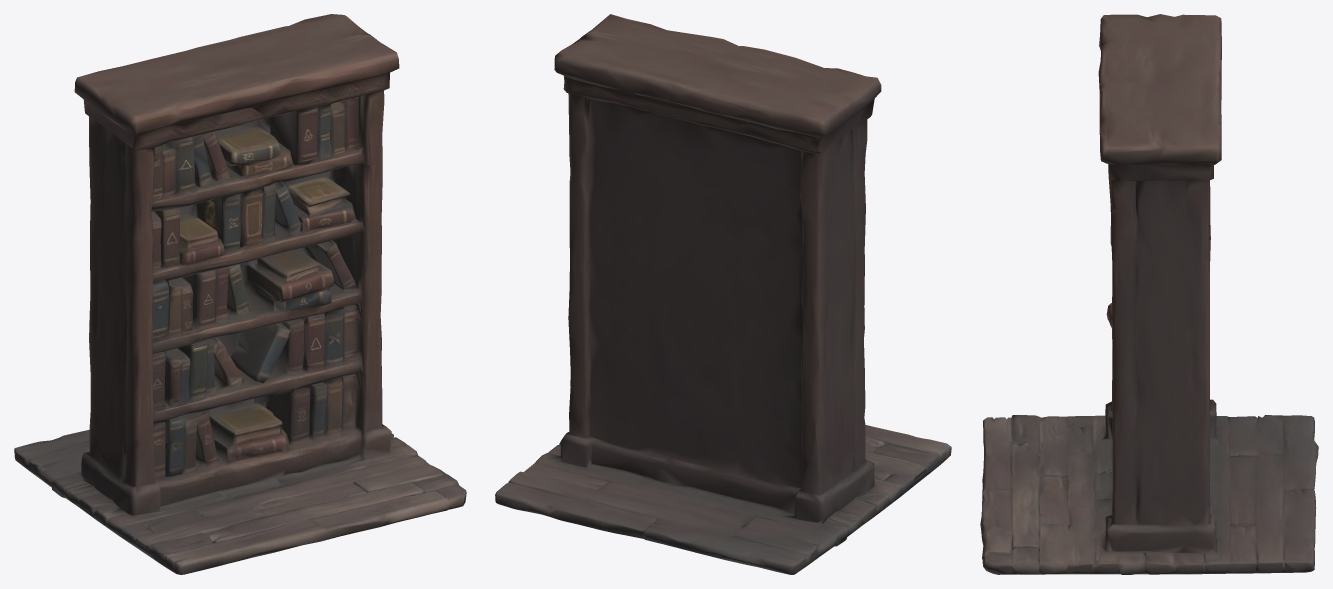
The model's file is library_bookshelf.glb.
3 views of the same model, side by side, from view 1: azimuth 30°, elevation 25°; view 2: azimuth 150°, elevation 25°; view 3: azimuth 270°, elevation 25° (orthographic).
Visible parts, largest first — view 1: tripo_node_9c6a6f15-8963-452c-b72f-110f136bacb7; view 2: tripo_node_9c6a6f15-8963-452c-b72f-110f136bacb7; view 3: tripo_node_9c6a6f15-8963-452c-b72f-110f136bacb7.
Part boxes in pixels (x1,y1,x2,y2): tripo_node_9c6a6f15-8963-452c-b72f-110f136bacb7: (14,14,466,574); tripo_node_9c6a6f15-8963-452c-b72f-110f136bacb7: (495,14,951,574); tripo_node_9c6a6f15-8963-452c-b72f-110f136bacb7: (980,14,1318,574).
Bounding box in the file's own units: 0.7648 × 1 × 0.7266.
Materials: 1 (1 with a texture image).
